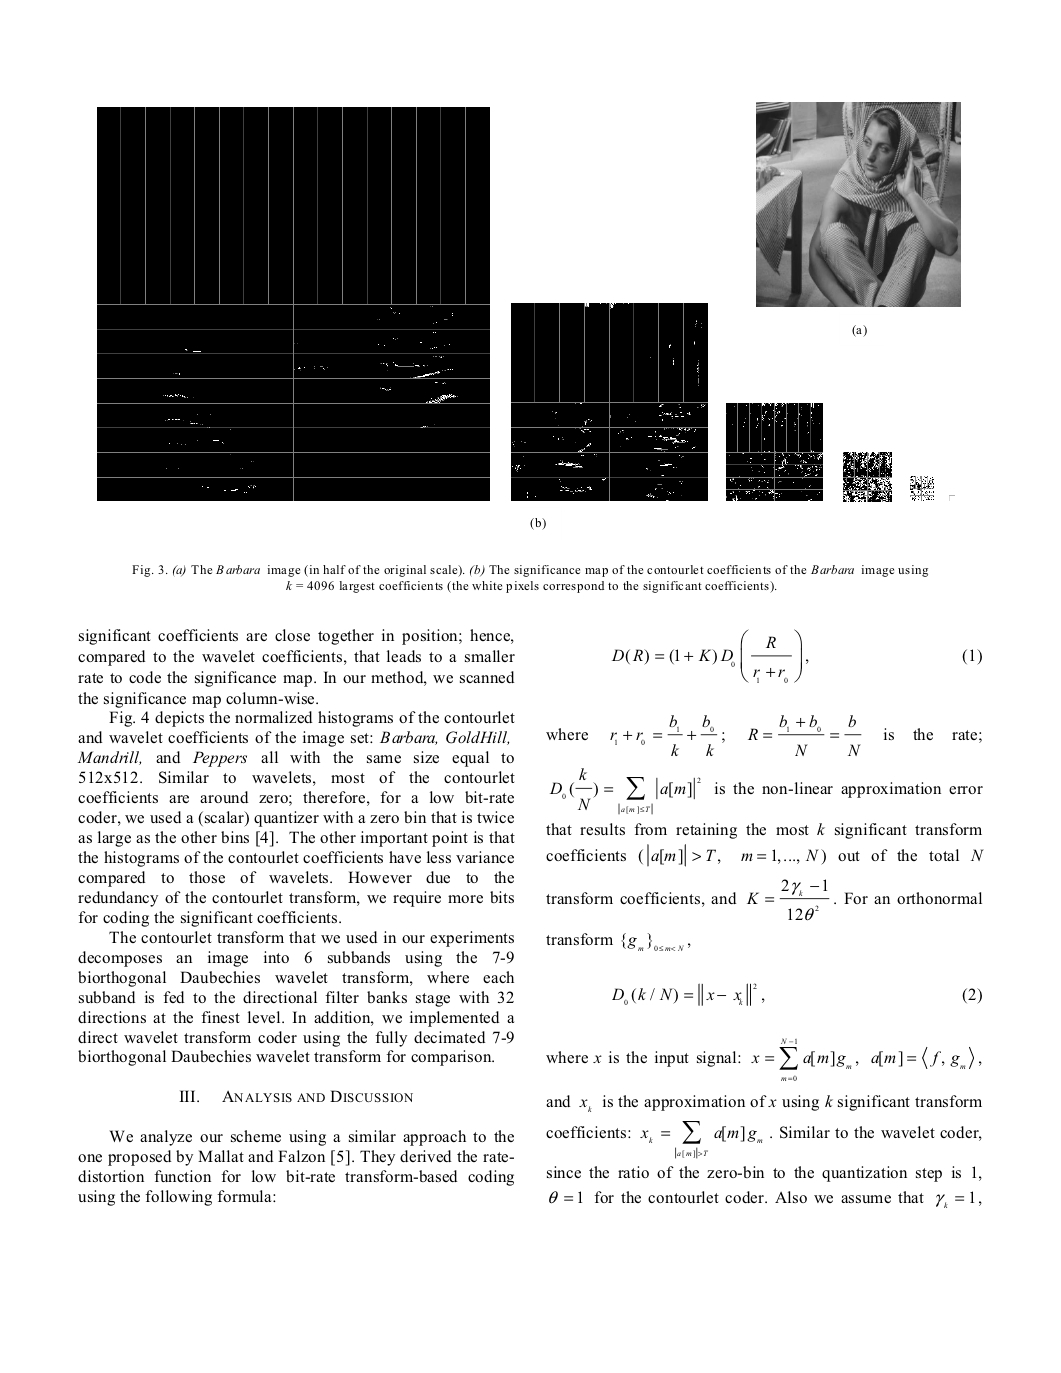figure: (97, 105, 489, 502), (756, 103, 960, 306), (512, 303, 707, 500), (726, 403, 822, 500), (843, 452, 890, 502), (911, 476, 933, 500)
formula: (611, 629, 981, 683), (612, 982, 981, 1006)
